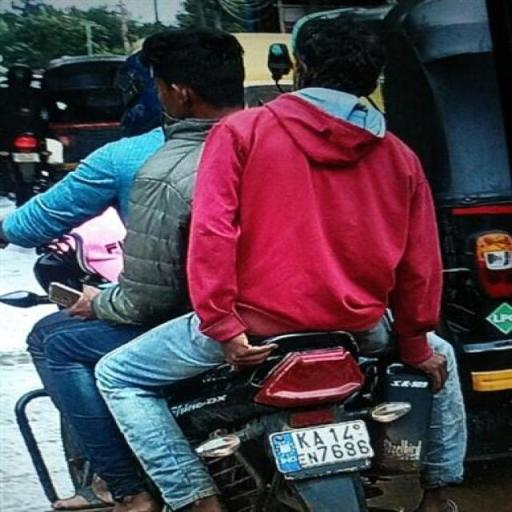tripple riding: (0, 12, 450, 318)
